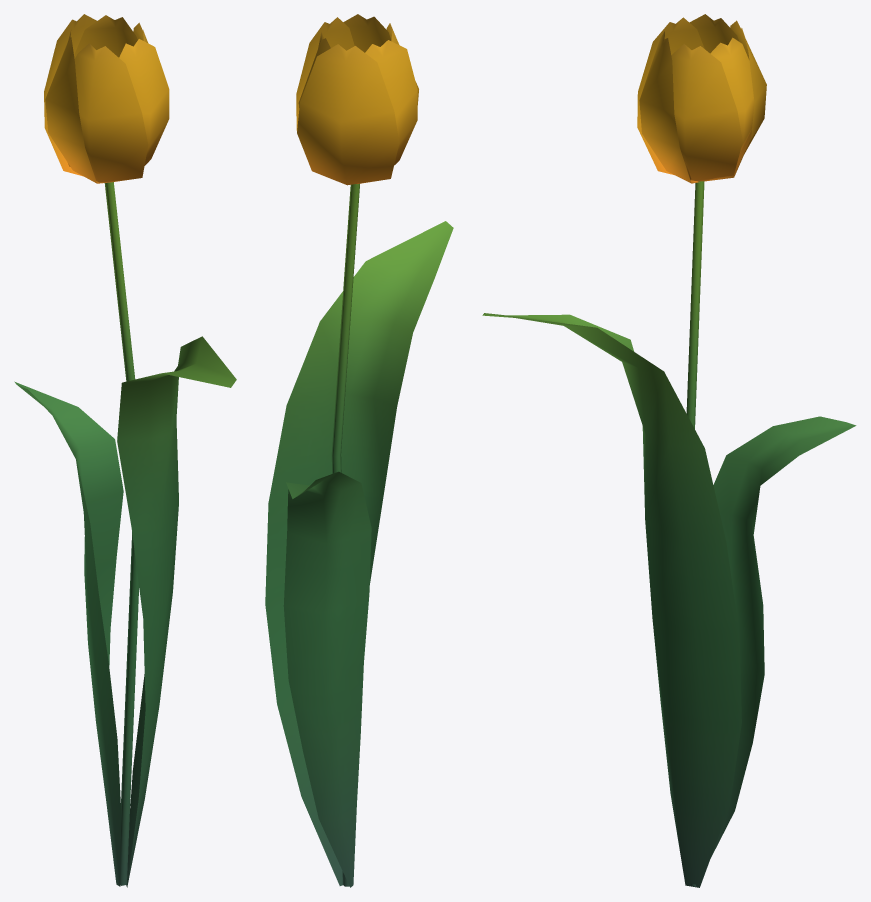
Rendered from Flower_Decoration_08.fbx.
The picture shows the model from 3 angles, left to right: view 1: azimuth 30°, elevation 25°; view 2: azimuth 150°, elevation 25°; view 3: azimuth 270°, elevation 25°; orthographic projection.
Parts seen in each view (by area): view 1: Flower.020; view 2: Flower.020; view 3: Flower.020.
Boxes of the visible parts, x1,y1,x2,y2 form: Flower.020: [14, 14, 236, 887]; Flower.020: [265, 14, 453, 887]; Flower.020: [482, 14, 856, 887].
Size of the model in its own units: 35.3 by 227 by 90.54.
